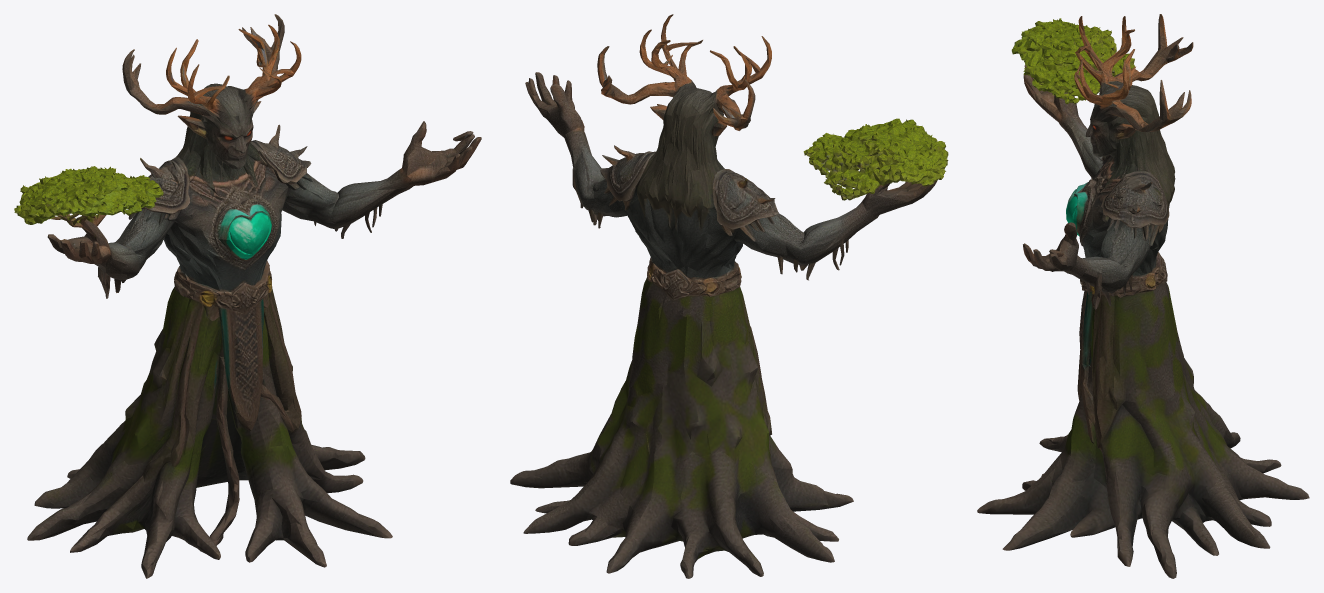
Rendered from ghorum.glb.
3 renders of one model, left to right at view 1: azimuth 30°, elevation 25°; view 2: azimuth 150°, elevation 25°; view 3: azimuth 270°, elevation 25°, orthographic. The views are drawn at different scales.
Size of the model in its own units: 1.82 by 1.9 by 1.24.
1 material, 1 textured.
